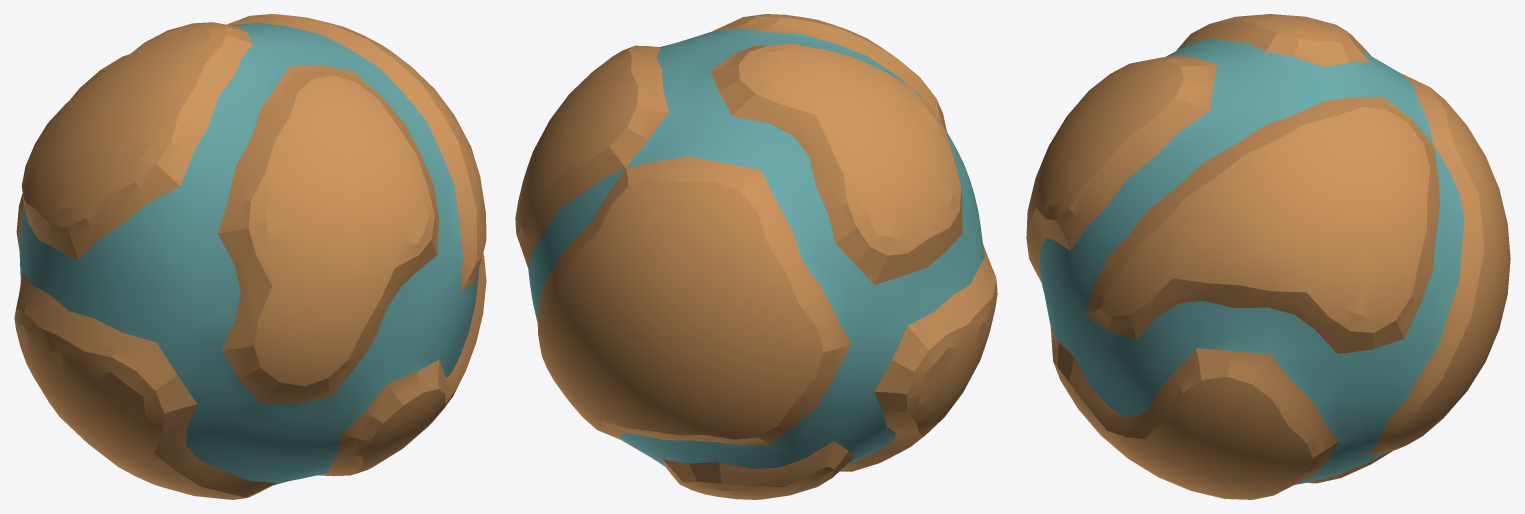
The model's file is Planet_2.glb.
3 renders of one model, left to right at view 1: azimuth 30°, elevation 25°; view 2: azimuth 150°, elevation 25°; view 3: azimuth 270°, elevation 25°, orthographic.
Visible parts, largest first — view 1: Planet_2; view 2: Planet_2; view 3: Planet_2.
Part boxes in pixels (x1=…): Planet_2: x1=14, y1=14, x2=486, y2=499; Planet_2: x1=515, y1=14, x2=997, y2=499; Planet_2: x1=1026, y1=14, x2=1510, y2=499.
Size of the model in its own units: 3.8 by 3.82 by 3.84.
1 material, 1 textured.
